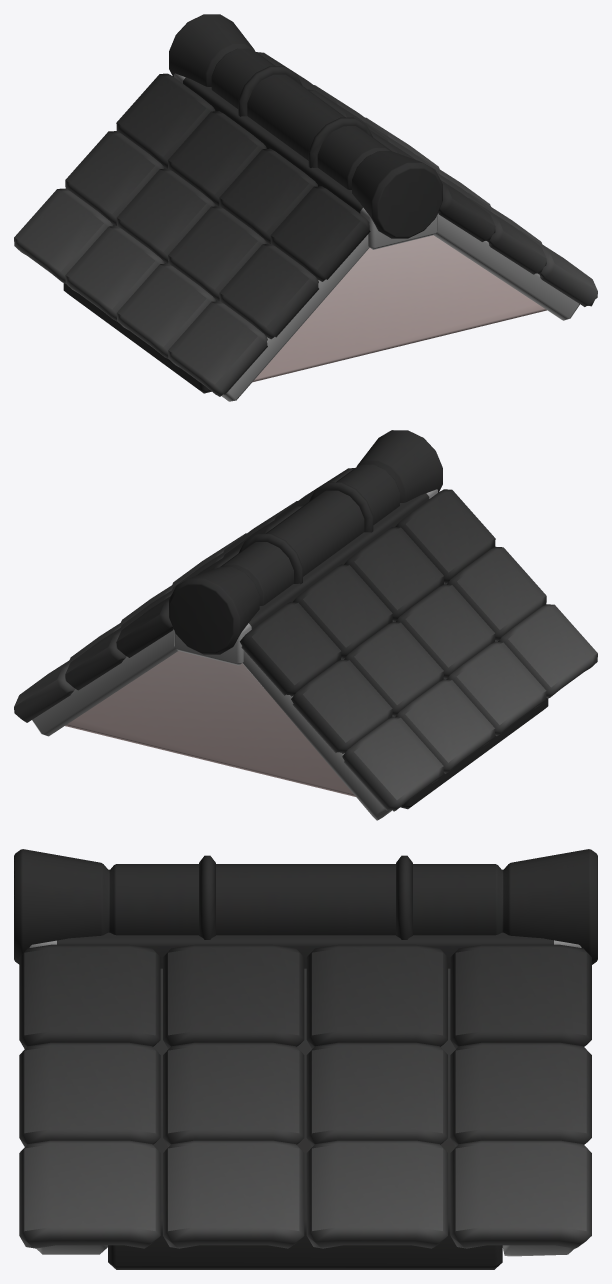
File: SM_Wood_Roof_07.fbx
3 renders of one model, top to bottom at view 1: azimuth 30°, elevation 25°; view 2: azimuth 150°, elevation 25°; view 3: azimuth 270°, elevation 25°, orthographic. The views are drawn at different scales.
Visible parts, largest first — view 1: SM_Wood_Roof_07; view 2: SM_Wood_Roof_07; view 3: SM_Wood_Roof_07.
Boxes of the visible parts, bbox=[...] form: SM_Wood_Roof_07: bbox=[14, 14, 597, 401]; SM_Wood_Roof_07: bbox=[14, 430, 597, 820]; SM_Wood_Roof_07: bbox=[14, 849, 597, 1269].
Size of the model in its own units: 1.09 by 0.5681 by 1.
